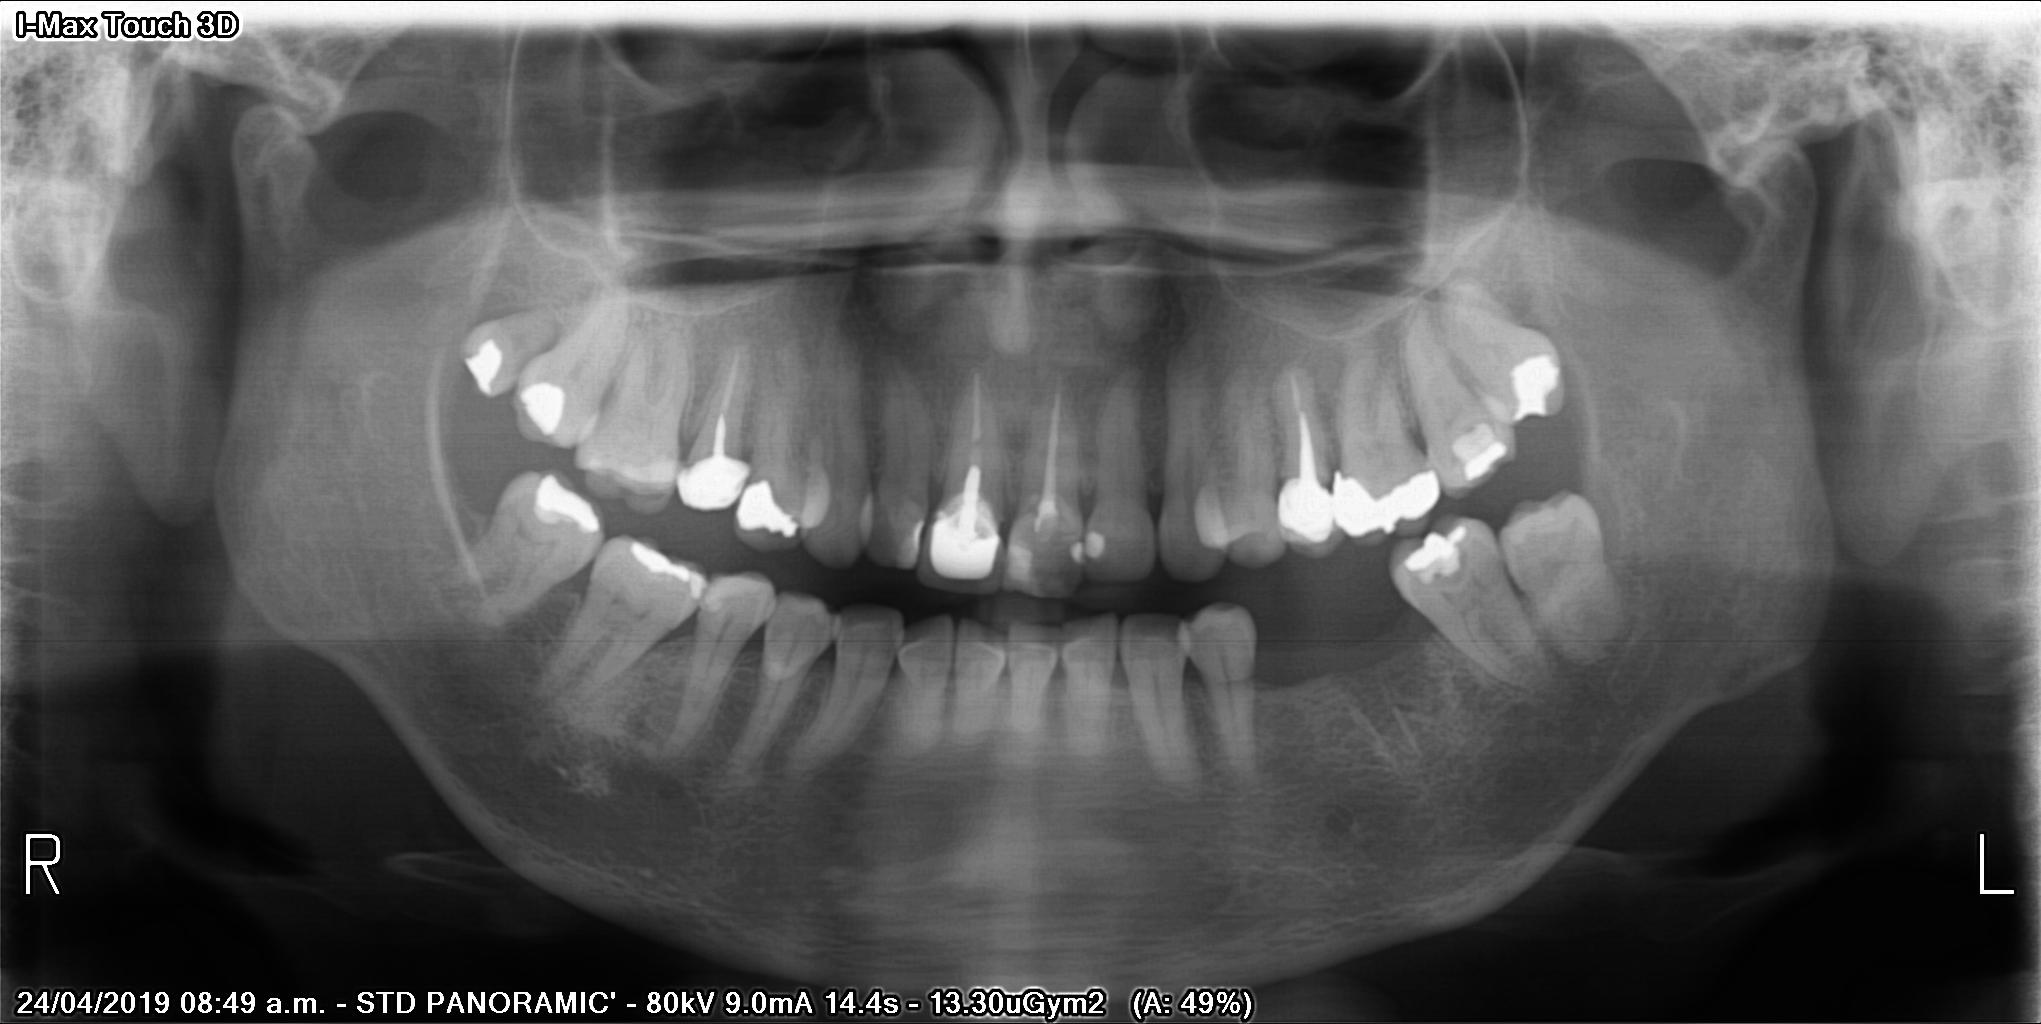Çürük: (1336, 441, 1443, 543), (1491, 336, 1568, 427), (925, 503, 1008, 585), (733, 469, 804, 559), (670, 439, 756, 513), (627, 529, 709, 602), (529, 465, 603, 543), (509, 375, 577, 445), (1280, 473, 1331, 559), (1402, 516, 1481, 564), (1449, 445, 1520, 487), (466, 333, 505, 404), (1086, 529, 1107, 559), (1075, 542, 1086, 566)
Çürük Bölgesi: (871, 503, 901, 567), (1426, 566, 1482, 585), (1453, 415, 1483, 436)
